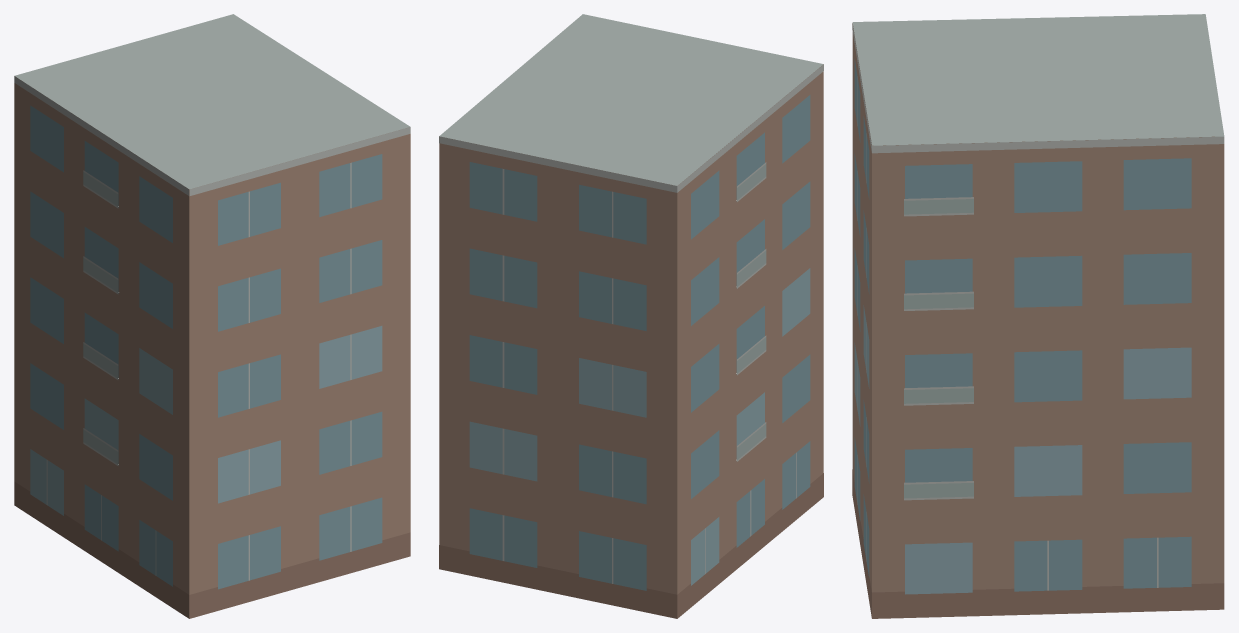
The model's file is survey-upis-32749176.glb.
The picture shows the model from 3 angles, left to right: view 1: azimuth 30°, elevation 25°; view 2: azimuth 150°, elevation 25°; view 3: azimuth 270°, elevation 25°; orthographic projection. The views are drawn at different scales.
Visible parts, largest first — view 1: survey-upis-32749176.tmp; view 2: survey-upis-32749176.tmp; view 3: survey-upis-32749176.tmp.
Part boxes in pixels (box(x1,y1,x2,y2)): survey-upis-32749176.tmp: box(14, 14, 410, 618); survey-upis-32749176.tmp: box(439, 14, 823, 618); survey-upis-32749176.tmp: box(852, 14, 1224, 618).
Bounding box in the file's own units: 9.12 × 15.25 × 10.87.
